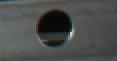holes: (35, 8, 76, 47)
